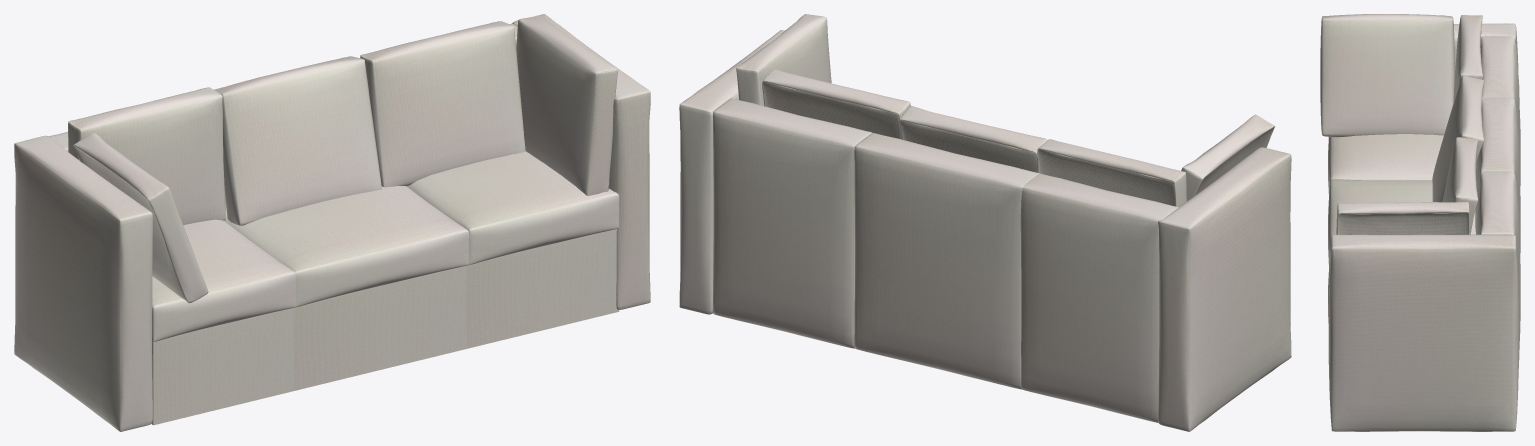
The model's file is completoCasual.gltf.
3 views of the same model, side by side, from view 1: azimuth 30°, elevation 25°; view 2: azimuth 150°, elevation 25°; view 3: azimuth 270°, elevation 25° (orthographic). The views are drawn at different scales.
Parts seen in each view (by area): view 1: asiento.001, asiento.013, asiento.014, asiento.008, base.002, asiento.009, asiento.015, base.003, base, asiento.004, asiento, asiento.011 (+1 smaller); view 2: asiento.010, asiento.012, asiento.003, asiento.001, asiento.011, asiento.014, asiento.004, asiento.013, asiento.015, asiento.002; view 3: asiento.011, asiento.002, asiento, asiento.015, asiento.010, asiento.012, asiento.013, asiento.008, asiento.003, asiento.014, asiento.004, asiento.001.
Boxes of the visible parts, box(x1,y1,x2,y2) form: asiento.001: box(14, 135, 152, 431); asiento.013: box(214, 56, 381, 225); asiento.014: box(360, 21, 525, 187); asiento.008: box(224, 186, 469, 307); base.002: box(293, 266, 466, 390); asiento.009: box(407, 151, 619, 264); asiento.015: box(516, 15, 617, 195); base.003: box(466, 229, 619, 348); base: box(152, 308, 293, 425); asiento.004: box(68, 87, 225, 224); asiento: box(152, 219, 296, 341); asiento.011: box(512, 14, 650, 309); asiento.010: box(854, 133, 1039, 389); asiento.012: box(713, 98, 872, 348); asiento.003: box(1020, 173, 1178, 422); asiento.001: box(1158, 147, 1291, 431); asiento.011: box(679, 30, 784, 314); asiento.014: box(762, 69, 910, 139); asiento.004: box(1037, 139, 1186, 207); asiento.013: box(899, 106, 1047, 172); asiento.015: box(736, 14, 831, 105); asiento.002: box(1181, 114, 1275, 200); asiento.011: box(1328, 234, 1518, 431); asiento.002: box(1320, 14, 1454, 137); asiento: box(1328, 134, 1443, 194); asiento.015: box(1336, 202, 1470, 234); asiento.010: box(1475, 97, 1520, 253); asiento.012: box(1476, 171, 1520, 368); asiento.013: box(1432, 75, 1483, 202); asiento.008: box(1328, 179, 1475, 267); asiento.003: box(1480, 36, 1520, 185); asiento.014: box(1442, 137, 1477, 234); asiento.004: box(1453, 15, 1482, 174); asiento.001: box(1328, 23, 1518, 137).
Size of the model in its own units: 2.84 by 1.25 by 1.05.
Materials: 2 (2 with a texture image).
